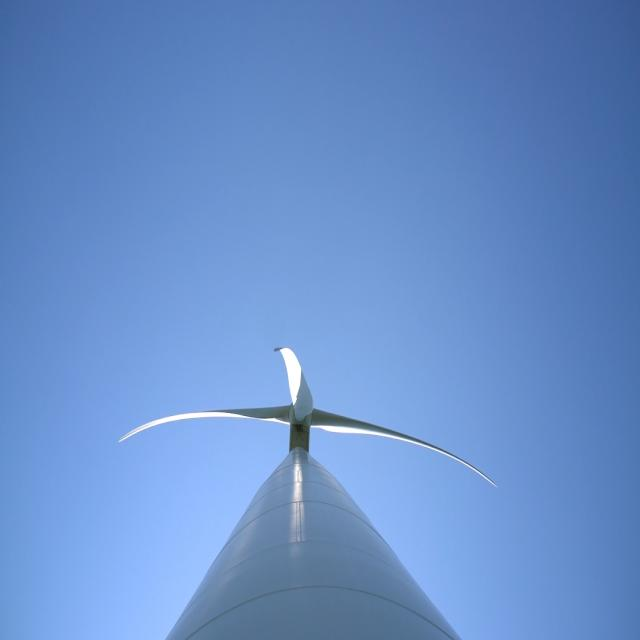blade 1: (342, 403, 500, 489)
blade 2: (86, 384, 268, 451)
blade 3: (268, 342, 325, 400)
